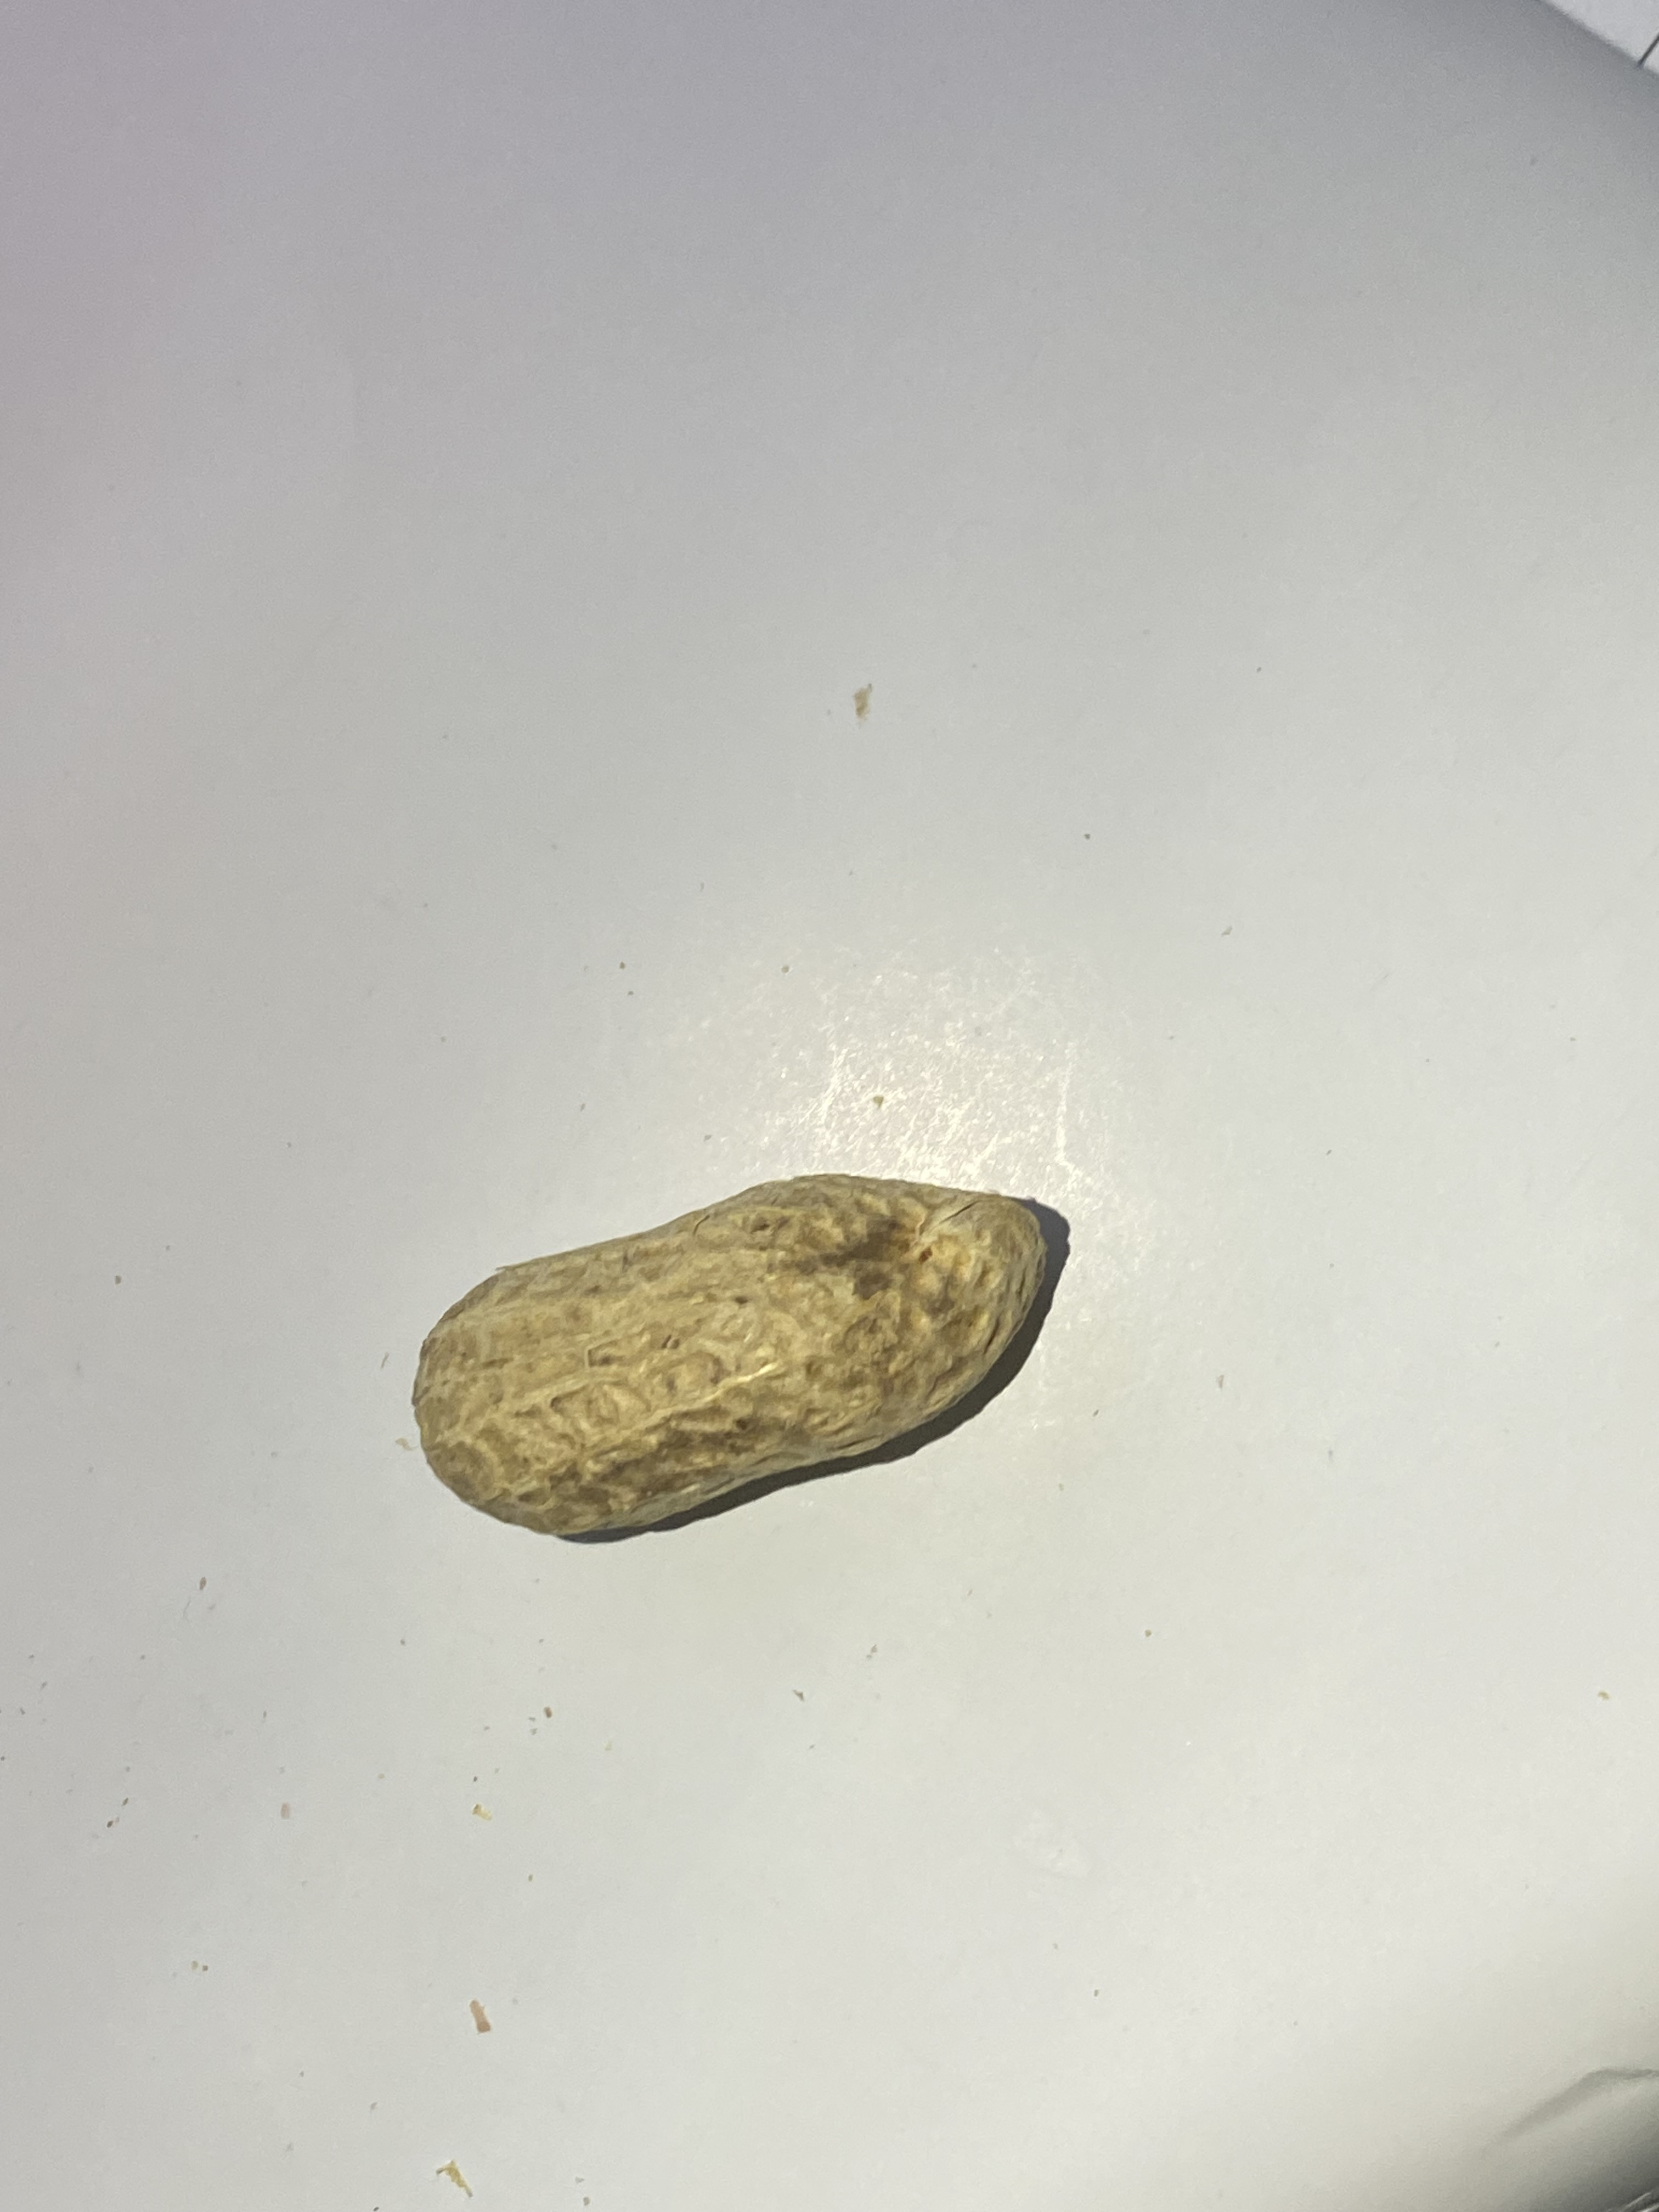kacang2: (368, 1163, 1101, 1555)
